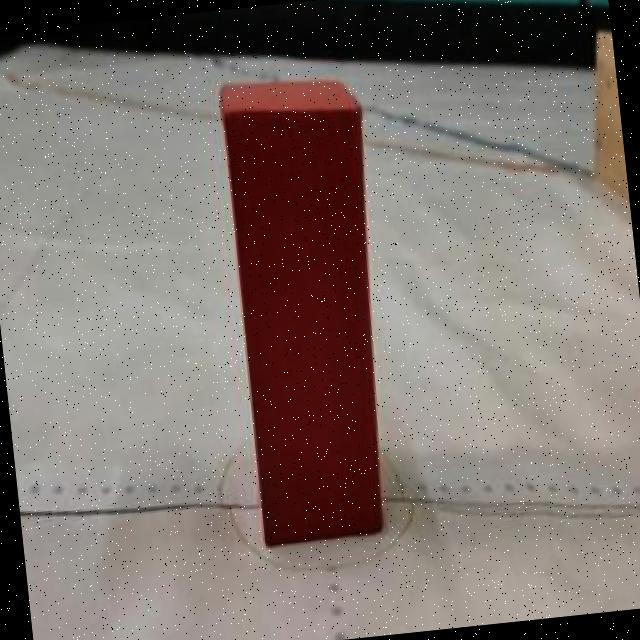redbox: (213, 64, 404, 542)
